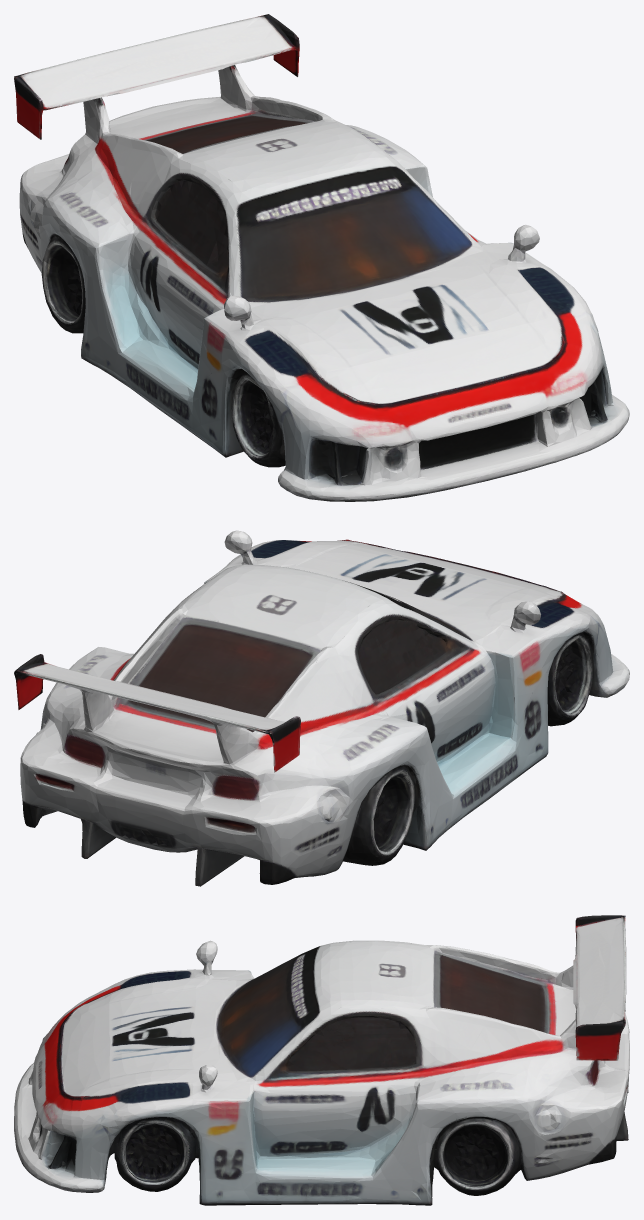
3 views of the same model, one above another, from view 1: azimuth 30°, elevation 25°; view 2: azimuth 150°, elevation 25°; view 3: azimuth 270°, elevation 25° (orthographic). The views are drawn at different scales.
Visible parts, largest first — view 1: world; view 2: world; view 3: world.
Boxes of the visible parts, left/top/right/bottom form: world: left=14, top=14, right=629, bottom=501; world: left=14, top=530, right=629, bottom=886; world: left=14, top=915, right=629, bottom=1205.
Bounding box in the file's own units: 0.5635 × 0.3046 × 0.9999.
Materials: 1 (1 with a texture image).
